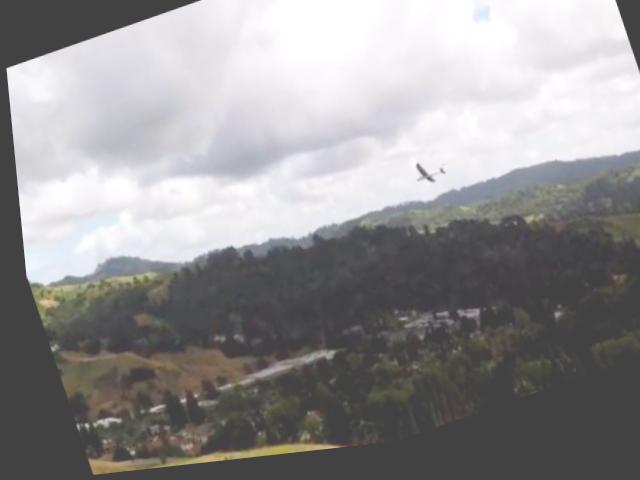iha: (398, 159, 446, 202)
